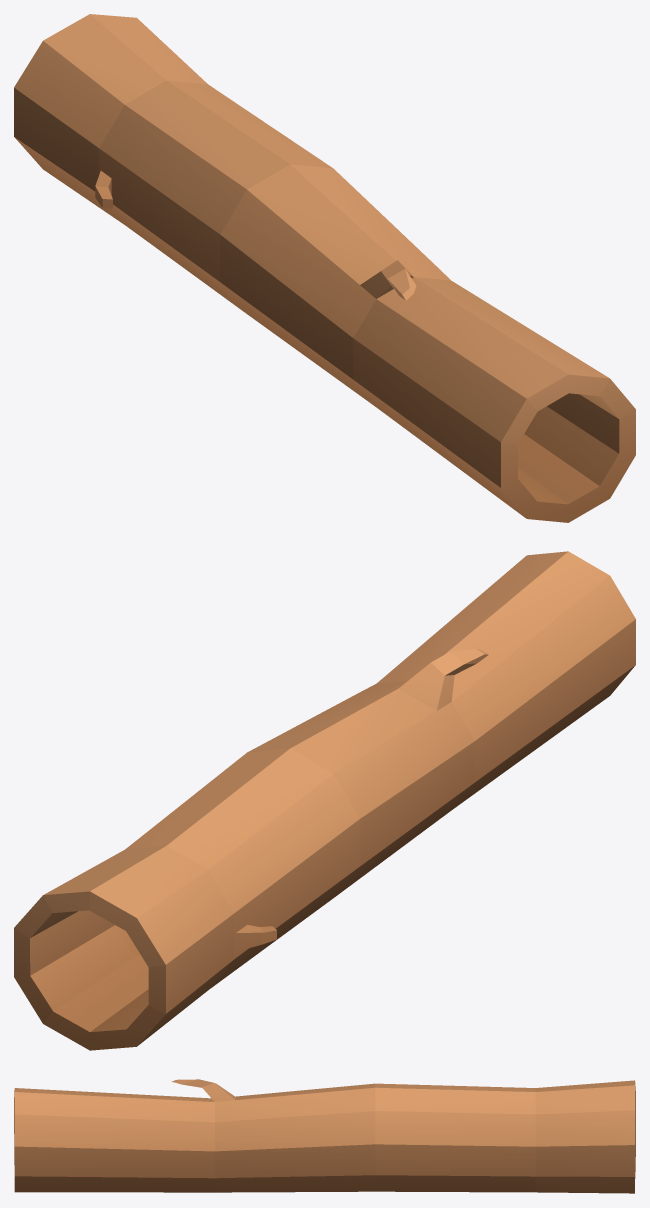
The model's file is fallentree.glb.
3 views of the same model, one above another, from view 1: azimuth 30°, elevation 25°; view 2: azimuth 150°, elevation 25°; view 3: azimuth 270°, elevation 25° (orthographic). The views are drawn at different scales.
Parts seen in each view (by area): view 1: Fallen tree; view 2: Fallen tree; view 3: Fallen tree.
Part boxes in pixels (x1=…): Fallen tree: x1=14, y1=14, x2=635, y2=522; Fallen tree: x1=14, y1=551, x2=635, y2=1050; Fallen tree: x1=14, y1=1079, x2=635, y2=1193.
Bounding box in the file's own units: 2.68 × 2.51 × 13.66.
Materials: 1 (1 with a texture image).
